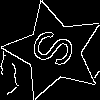S: (29, 26, 86, 75)
